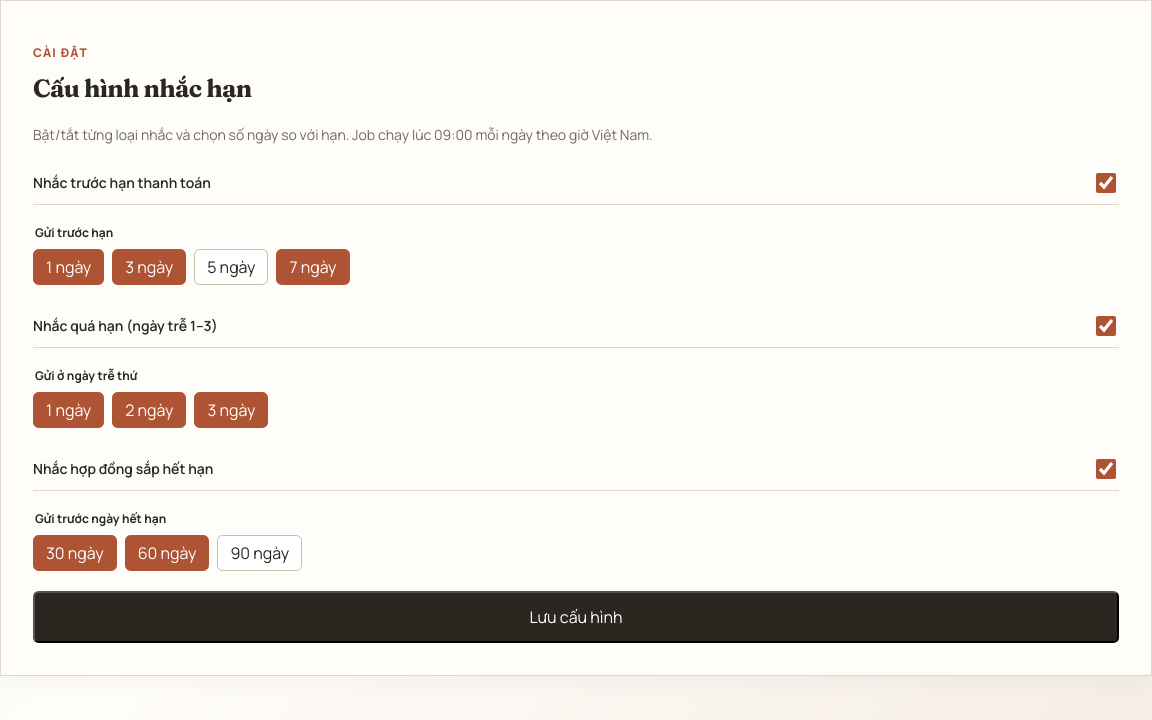
Scenario: ReminderSettingsCard › shows the server error when saving fails
The image size is (1152, 720).
Step 1. Click the button "Lưu cấu hình" → (576,617), box [33, 591, 1119, 642]
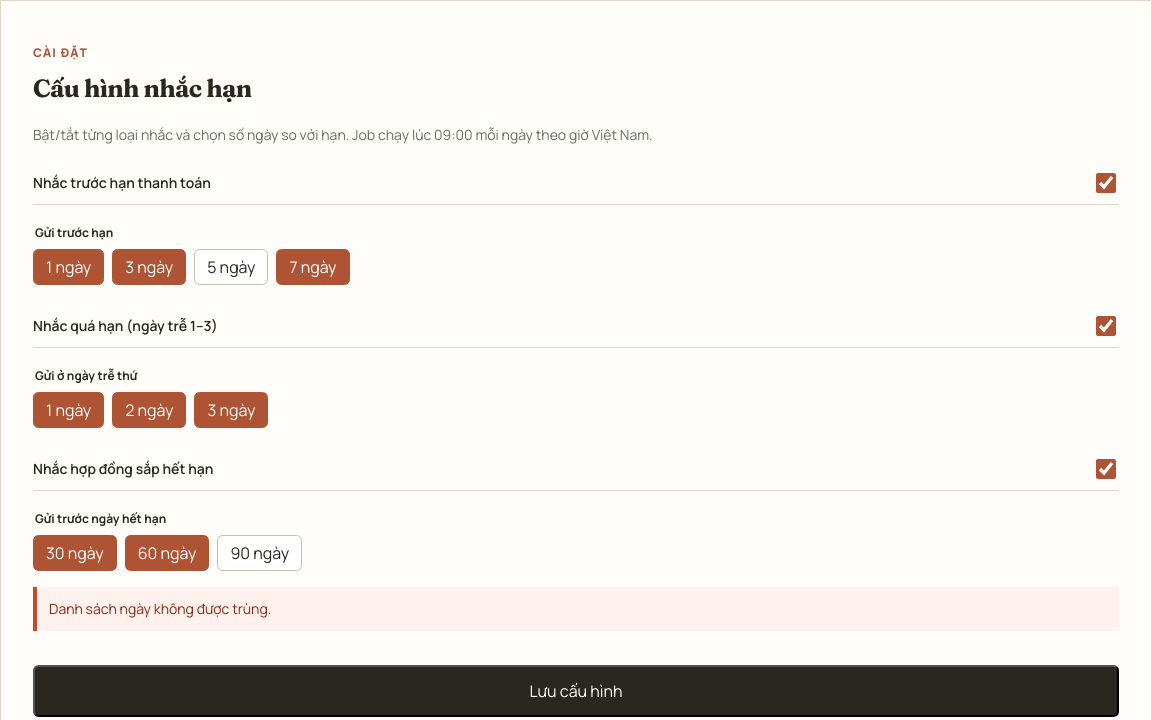
Now the message reads "Danh sách ngày không được trùng.", box [49, 599, 271, 618]
